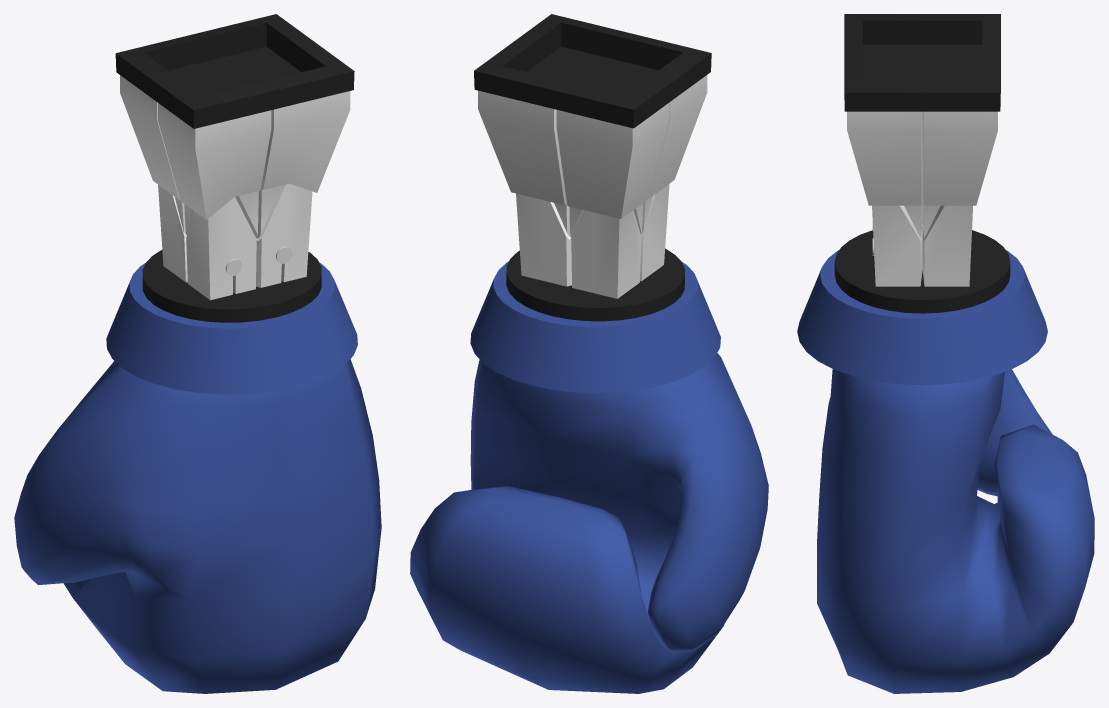
File: Arm_L 1.fbx
3 renders of one model, left to right at view 1: azimuth 30°, elevation 25°; view 2: azimuth 150°, elevation 25°; view 3: azimuth 270°, elevation 25°, orthographic.
Visible parts, largest first — view 1: Glove L, Arm L.004, Arm L.001, Arm L.002, Arm L, Arm L.003; view 2: Glove L, Arm L.004, Arm L.001, Arm L.002, Arm L, Arm L.003; view 3: Glove L, Arm L.004, Arm L.002, Arm L.001, Arm L, Arm L.003.
Part boxes in pixels (x1,y1,x2,y2): Glove L: [14, 359, 381, 693]; Arm L.004: [106, 262, 357, 394]; Arm L.001: [120, 75, 350, 219]; Arm L.002: [115, 14, 354, 128]; Arm L: [158, 183, 312, 300]; Arm L.003: [142, 250, 321, 322]; Glove L: [410, 353, 768, 693]; Arm L.004: [470, 261, 720, 392]; Arm L.001: [478, 75, 707, 218]; Arm L.002: [474, 14, 711, 128]; Arm L: [516, 184, 669, 298]; Arm L.003: [506, 248, 684, 321]; Glove L: [817, 369, 1094, 693]; Arm L.004: [797, 250, 1047, 385]; Arm L.002: [844, 14, 1000, 111]; Arm L.001: [847, 111, 997, 205]; Arm L: [872, 203, 972, 286]; Arm L.003: [834, 230, 1010, 313].
Bounding box in the file's own units: 102 × 194 × 84.5.
